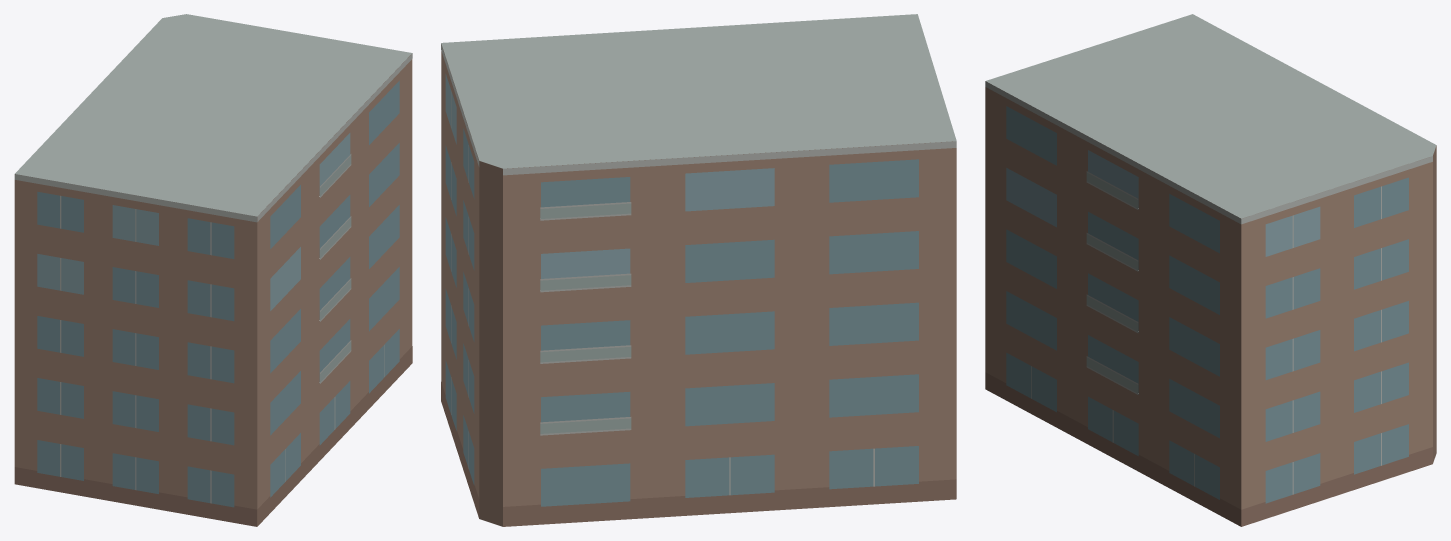
The model's file is survey-upis-32997999.glb.
3 views of the same model, side by side, from view 1: azimuth 30°, elevation 25°; view 2: azimuth 150°, elevation 25°; view 3: azimuth 270°, elevation 25° (orthographic). The views are drawn at different scales.
Parts seen in each view (by area): view 1: survey-upis-32997999.tmp; view 2: survey-upis-32997999.tmp; view 3: survey-upis-32997999.tmp.
Boxes of the visible parts, x1,y1,x2,y2 form: survey-upis-32997999.tmp: (14,14,412,526); survey-upis-32997999.tmp: (441,14,956,526); survey-upis-32997999.tmp: (985,14,1436,526).
Bounding box in the file's own units: 18.52 × 13 × 17.26.
